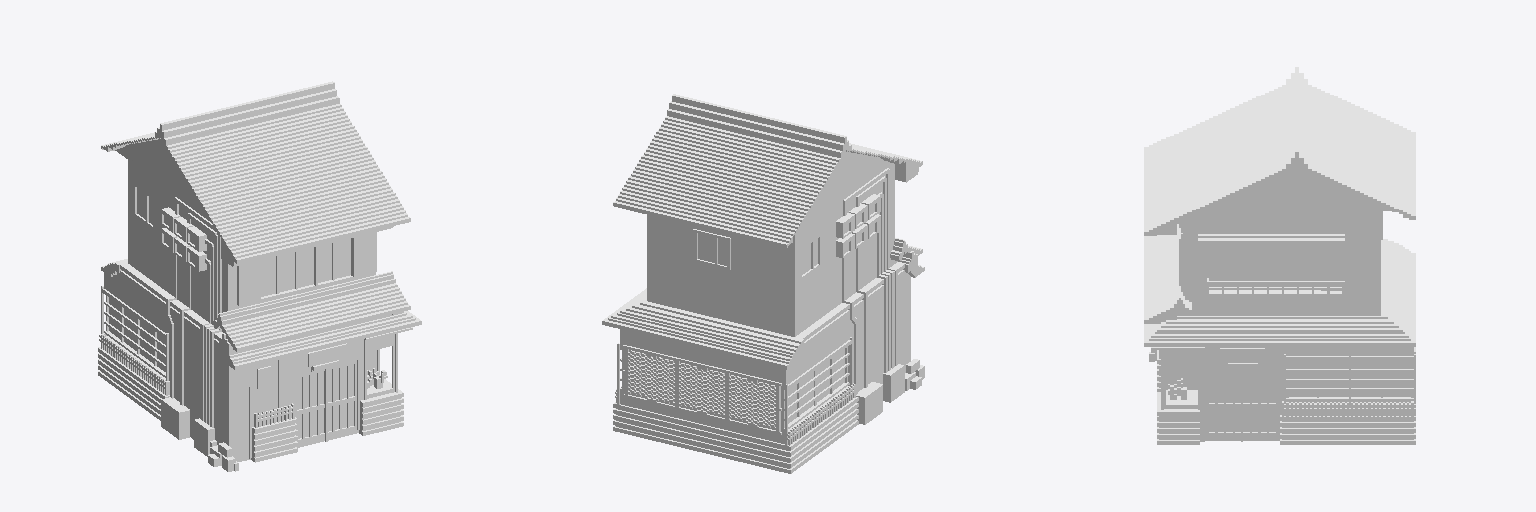
Rendered from GDS2_Build2-0.obj.
3 renders of one model, left to right at view 1: azimuth 30°, elevation 25°; view 2: azimuth 150°, elevation 25°; view 3: azimuth 270°, elevation 25°, orthographic.
Parts seen in each view (by area): view 1: GDS2_Build2-0; view 2: GDS2_Build2-0; view 3: GDS2_Build2-0.
Boxes of the visible parts, x1=… form: GDS2_Build2-0: x1=98, y1=81, x2=421, y2=471; GDS2_Build2-0: x1=602, y1=94, x2=924, y2=473; GDS2_Build2-0: x1=1144, y1=67, x2=1415, y2=444.
Bounding box in the file's own units: 10.5 × 15 × 12.6.